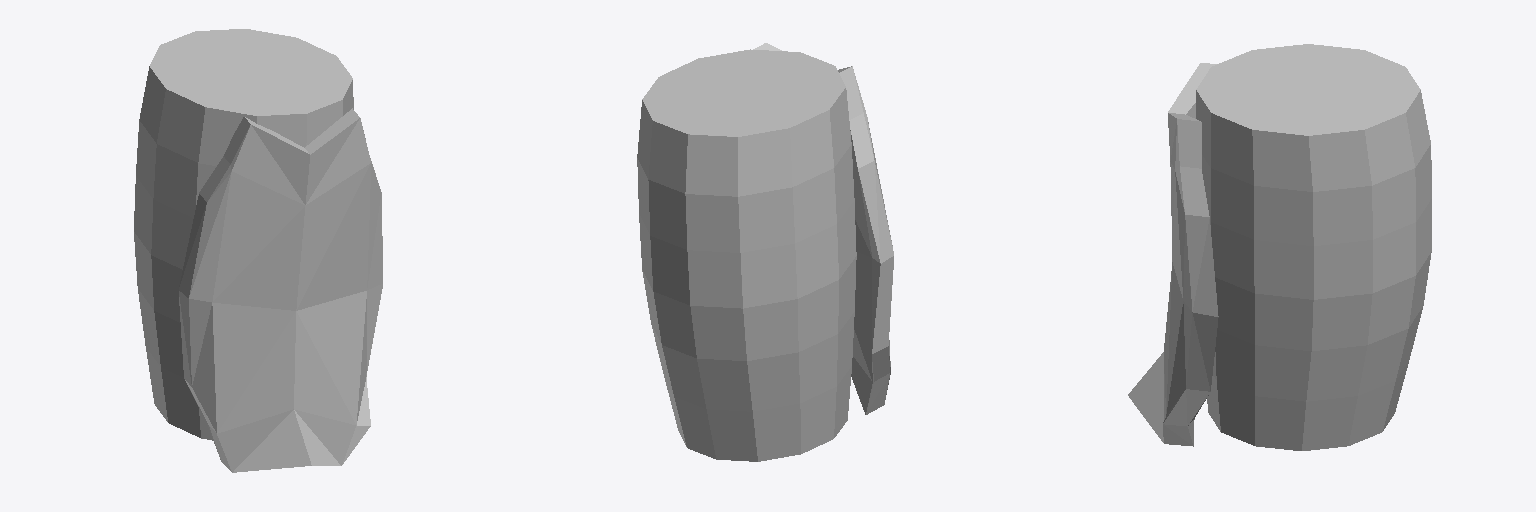
File: UpperLeg_R.obj
The picture shows the model from 3 angles: view 1: azimuth 30°, elevation 25°; view 2: azimuth 150°, elevation 25°; view 3: azimuth 270°, elevation 25°; orthographic projection.
Parts seen in each view (by area): view 1: UpperLeg_R pCube59, pCylinder63 UpperLeg_R; view 2: pCylinder63 UpperLeg_R, UpperLeg_R pCube59; view 3: pCylinder63 UpperLeg_R, UpperLeg_R pCube59.
Part boxes in pixels (x1,y1,x2,y2): UpperLeg_R pCube59: (179,108,382,472); pCylinder63 UpperLeg_R: (134,29,353,440); pCylinder63 UpperLeg_R: (637,49,856,461); UpperLeg_R pCube59: (753,43,893,414); pCylinder63 UpperLeg_R: (1196,44,1431,450); UpperLeg_R pCube59: (1128,63,1218,446).
Size of the model in its own units: 1.38 by 2.39 by 1.88.